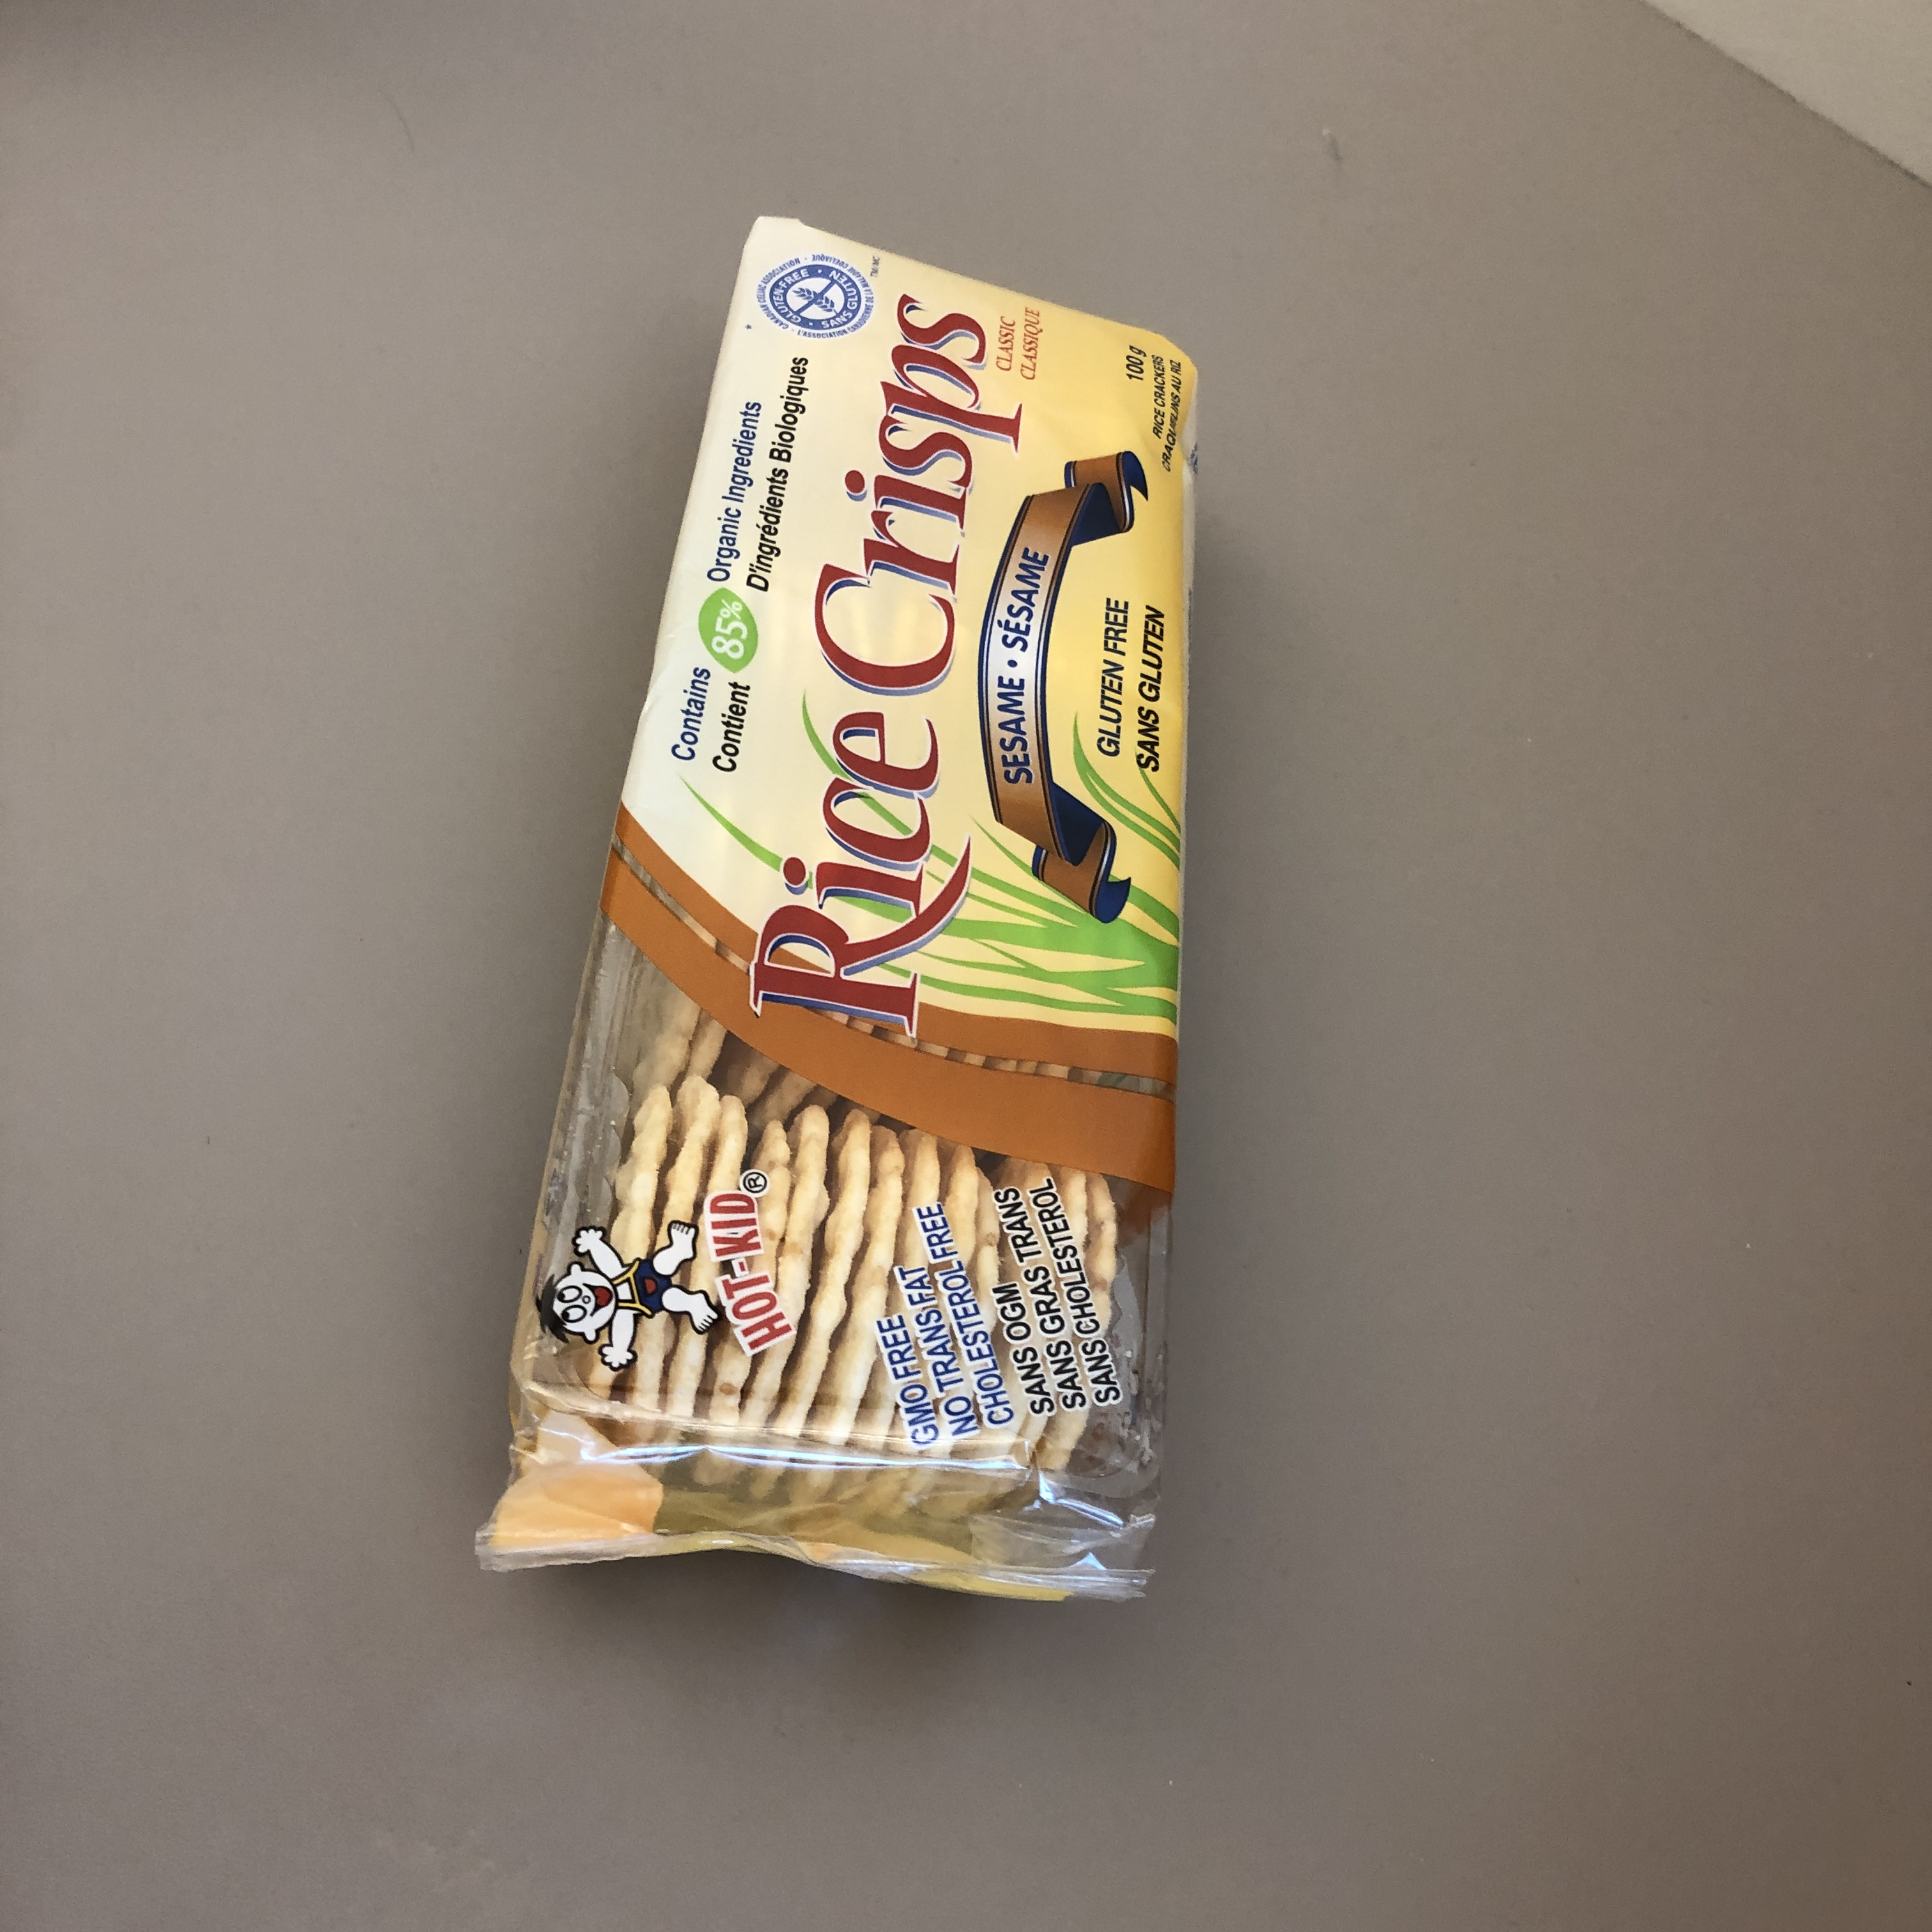hot_kid_rice_crisps_sesame: (264, 784, 1583, 1369)
